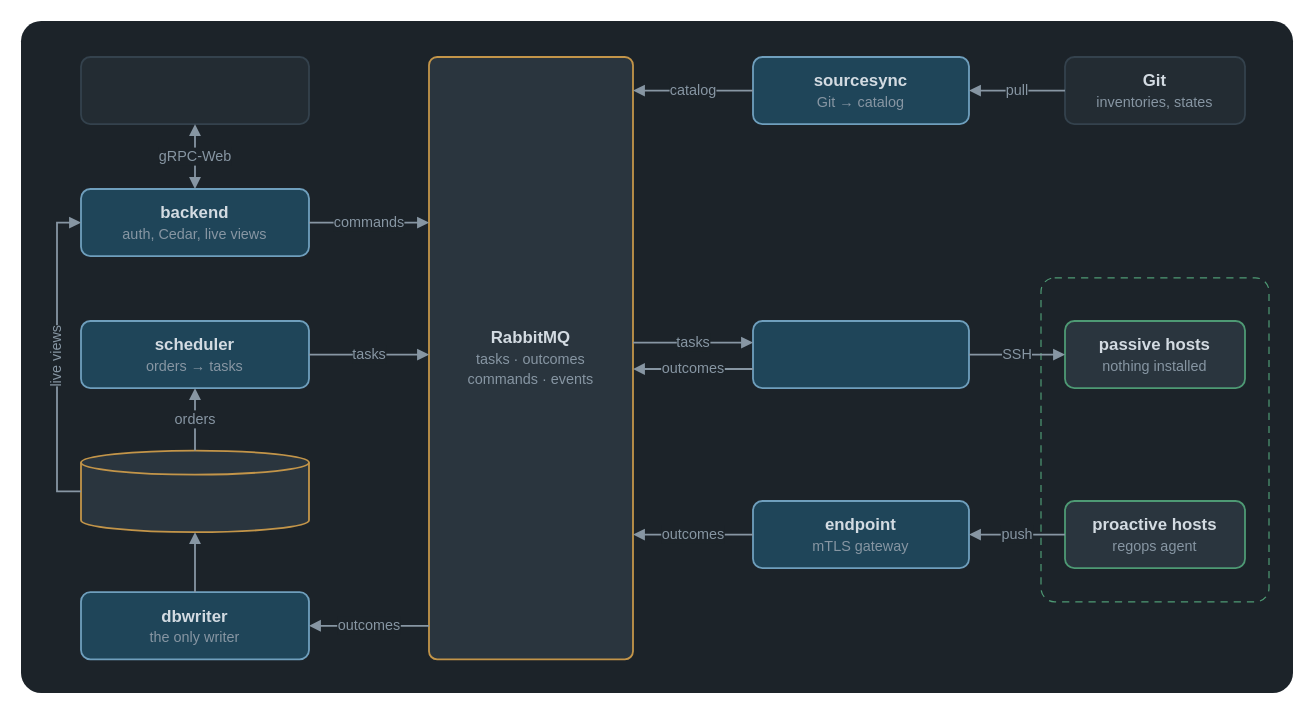
Image size: 1313x713. Some labels were removed from this diagram. Here are the shapes that lost their labels. From the top down, the box of each, then its label:
(80, 56, 309, 125): Users · API web UI, regencyctl
(752, 320, 969, 389): runner runs tasks
(1040, 277, 1269, 602): managed hosts
(80, 449, 309, 533): CouchDB state, history
